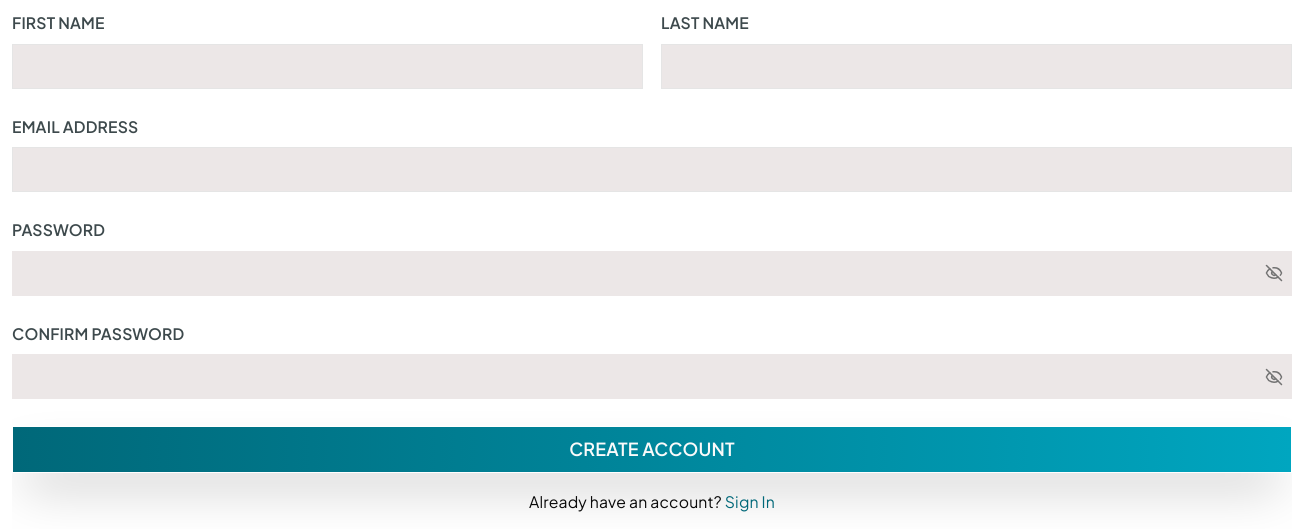
Test: SignUpForm › disables button and shows spinner while submitting
Type "John" into the field labelled "First Name" at (328, 66), box x1=12 y1=44 x2=643 y2=88
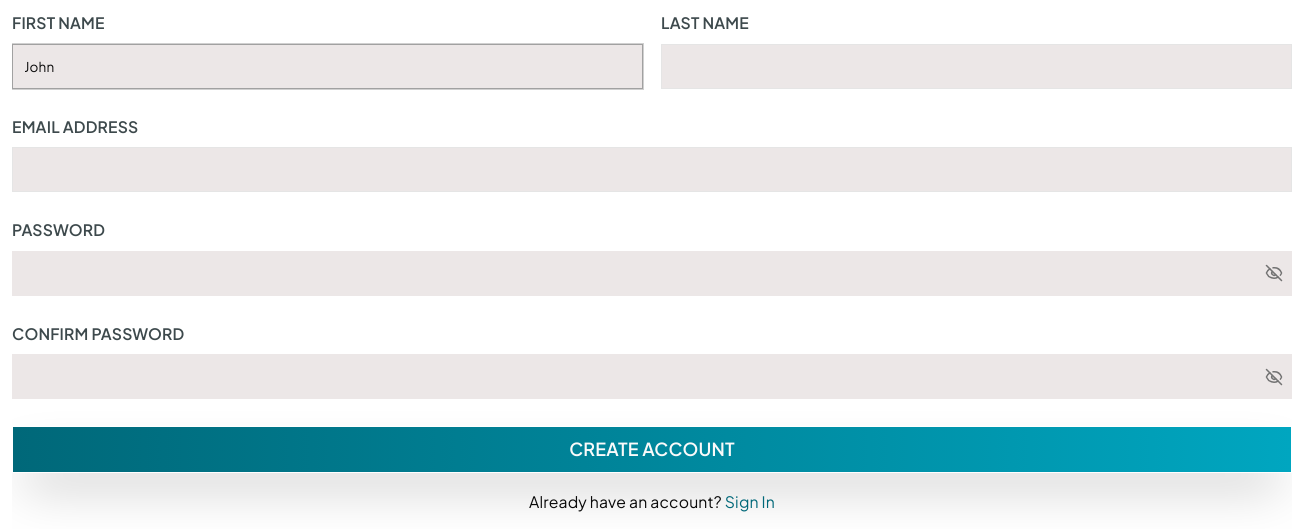
Type "Doe" into the field labelled "Last Name" at (976, 66), box x1=661 y1=44 x2=1292 y2=88
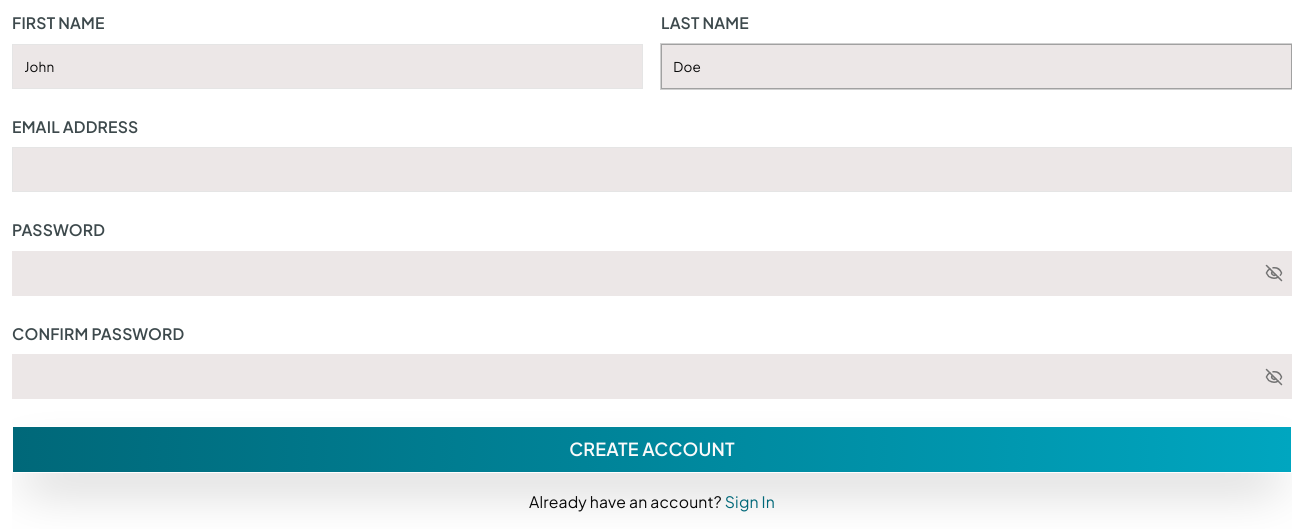
Type "john@gmail.com" into the field labelled "Email Address" at (652, 170), box x1=12 y1=147 x2=1292 y2=192
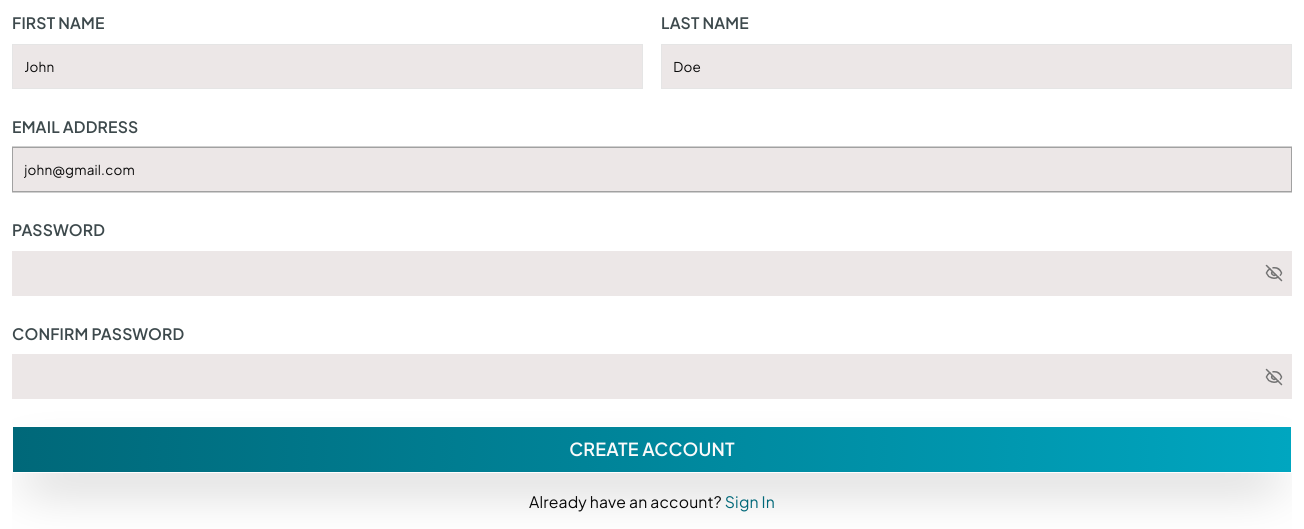
Type "Password@123" into the password field labelled "Password" at (638, 273), box x1=12 y1=250 x2=1265 y2=296
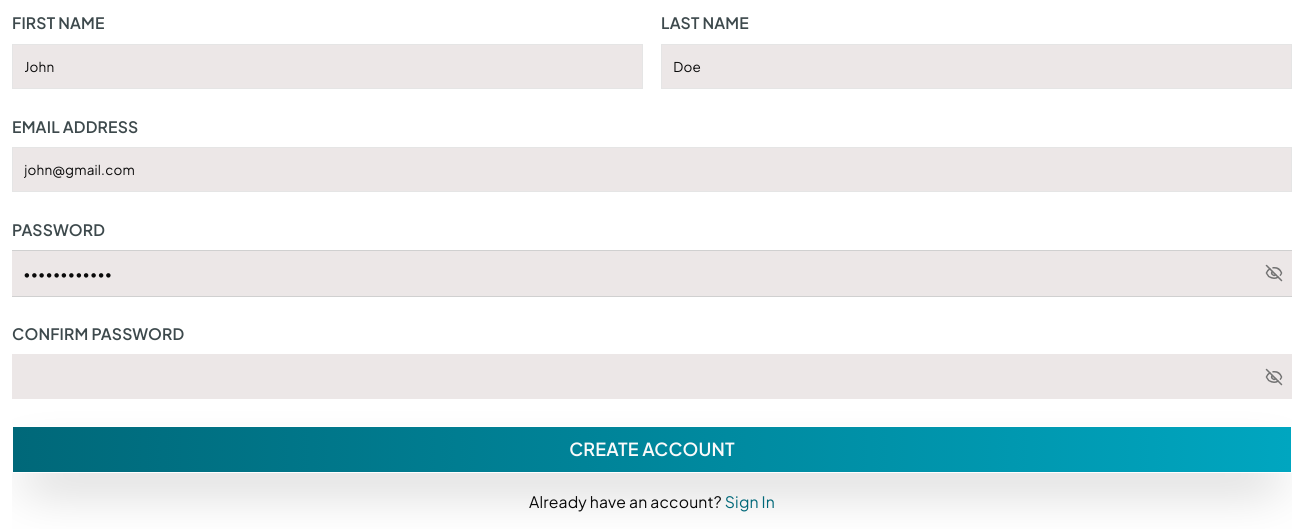
Type "Password@123" into the password field labelled "Confirm Password" at (638, 376), box x1=12 y1=354 x2=1265 y2=399
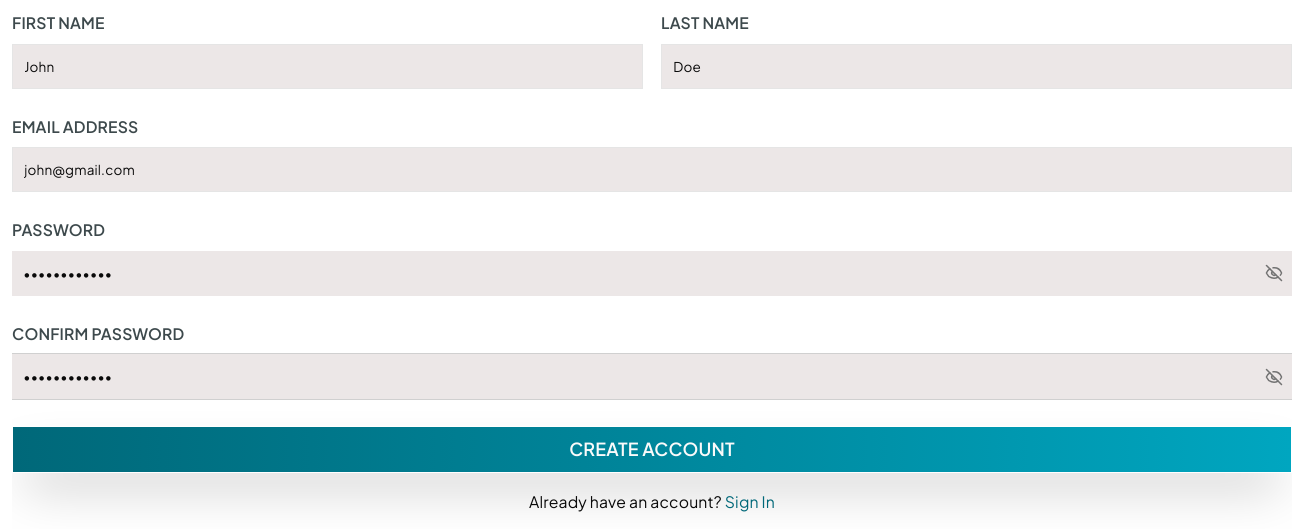
Click the button "Create Account" at (652, 450), box x1=12 y1=426 x2=1292 y2=473
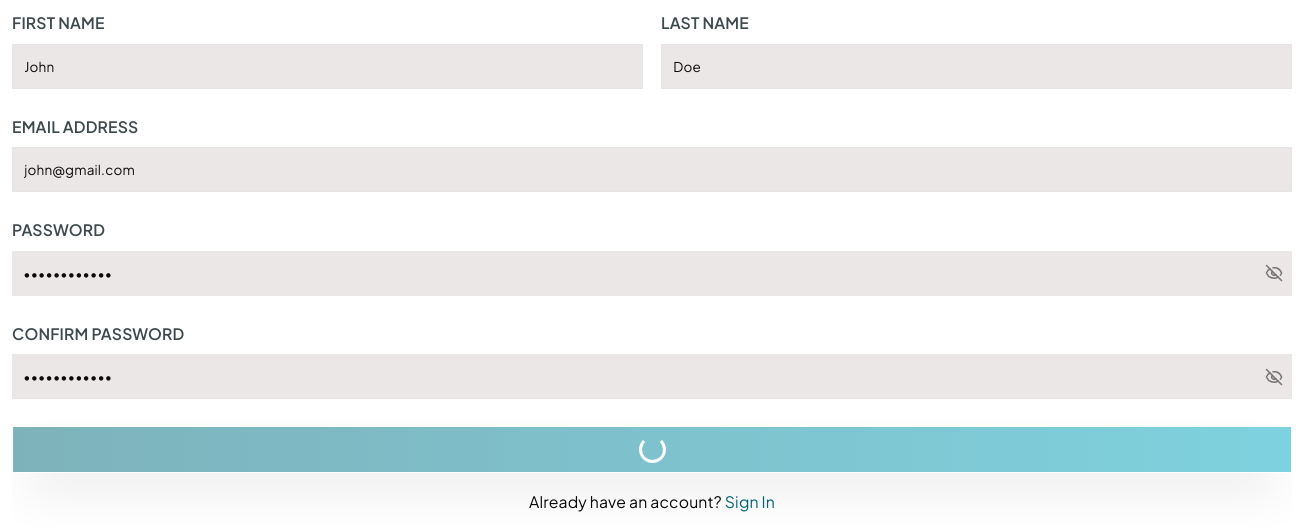
Expected: the 3rd button named "create account" is disabled, x1=12 y1=426 x2=1292 y2=473
